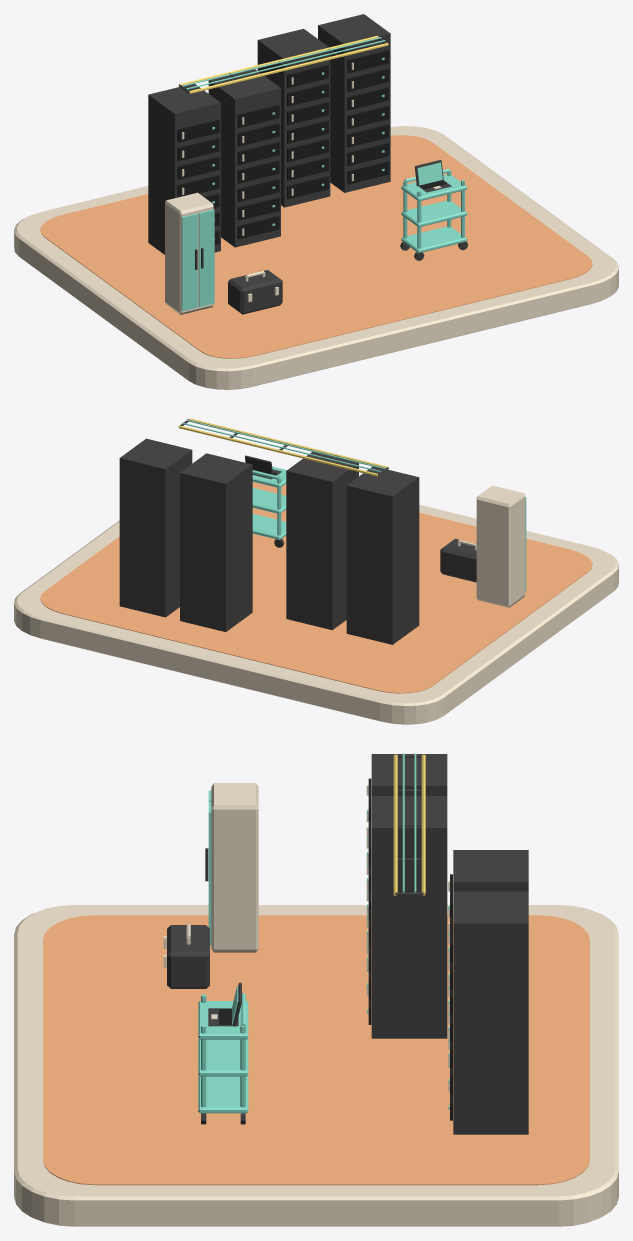
3 views of the same model, one above another, from view 1: azimuth 30°, elevation 25°; view 2: azimuth 150°, elevation 25°; view 3: azimuth 270°, elevation 25° (orthographic). The views are drawn at different scales.
Visible parts, largest first — view 1: COM-02 Floor Surface, COM-01 Rounded Base Direct, Server case, Server case.003, Server case.001, Server case.002, Equipment case, Case, Door.001, Door, Tray, Tray.001 (+28 smaller); view 2: COM-02 Floor Surface, COM-01 Rounded Base Direct, Server case, Server case.002, Server case.003, Server case.001, Equipment case, Case, Cable rail.001, Tray, Tray.001, Cable rail (+2 smaller); view 3: COM-02 Floor Surface, COM-01 Rounded Base Direct, Server case.003, Server case.001, Equipment case, Server case.002, Server case, Case, Tray, Tray.001, Tray.002, Cable rail.001 (+1 smaller).
Part boxes in pixels (bbox=[...]): COM-02 Floor Surface: bbox=[40, 135, 592, 358]; COM-01 Rounded Base Direct: bbox=[14, 126, 618, 389]; Server case: bbox=[148, 84, 220, 254]; Server case.003: bbox=[318, 14, 390, 192]; Server case.001: bbox=[208, 69, 280, 247]; Server case.002: bbox=[257, 28, 330, 207]; Equipment case: bbox=[165, 192, 213, 314]; Case: bbox=[228, 270, 282, 314]; Door.001: bbox=[198, 209, 214, 306]; Door: bbox=[181, 213, 197, 311]; Tray: bbox=[401, 226, 467, 253]; Tray.001: bbox=[401, 200, 467, 227]; COM-02 Floor Surface: bbox=[40, 482, 592, 693]; COM-01 Rounded Base Direct: bbox=[14, 462, 618, 724]; Server case: bbox=[346, 466, 419, 644]; Server case.002: bbox=[180, 453, 252, 631]; Server case.003: bbox=[119, 438, 192, 617]; Server case.001: bbox=[286, 452, 358, 630]; Equipment case: bbox=[476, 485, 525, 607]; Case: bbox=[440, 538, 476, 582]; Cable rail.001: bbox=[179, 425, 377, 476]; Tray: bbox=[252, 513, 286, 540]; Tray.001: bbox=[252, 488, 286, 514]; Cable rail: bbox=[189, 418, 388, 468]; COM-02 Floor Surface: bbox=[43, 915, 589, 1185]; COM-01 Rounded Base Direct: bbox=[14, 905, 618, 1226]; Server case.003: bbox=[453, 891, 528, 1134]; Server case.001: bbox=[371, 796, 447, 1038]; Equipment case: bbox=[211, 783, 258, 952]; Server case.002: bbox=[453, 850, 528, 891]; Server case: bbox=[371, 754, 447, 795]; Case: bbox=[167, 925, 209, 988]; Tray: bbox=[198, 1075, 248, 1113]; Tray.001: bbox=[198, 1039, 248, 1076]; Tray.002: bbox=[198, 1001, 248, 1039]; Cable rail.001: bbox=[421, 754, 425, 895].
Size of the model in its own units: 6 by 2.46 by 5.2.
1 material, 1 textured.
